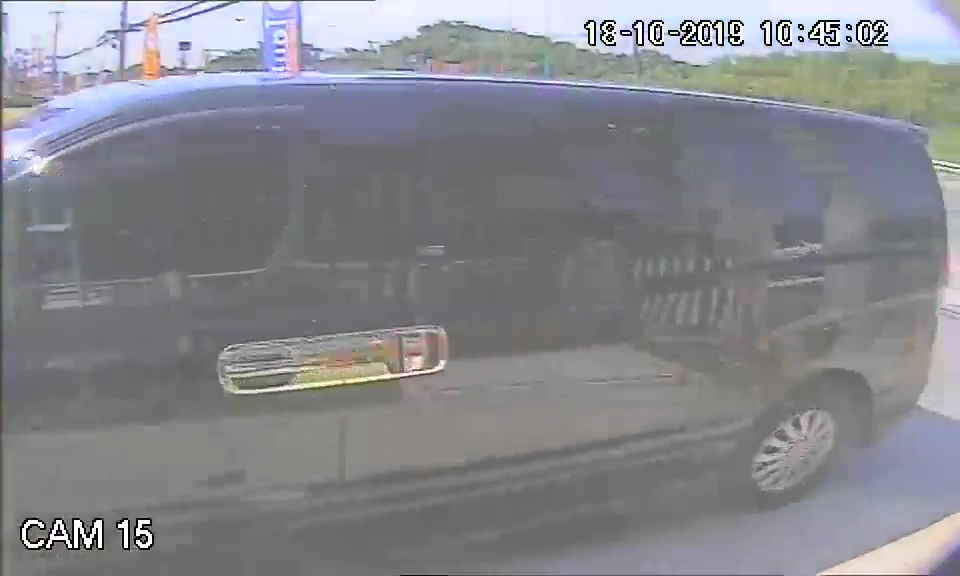van: (91, 64, 945, 552)
